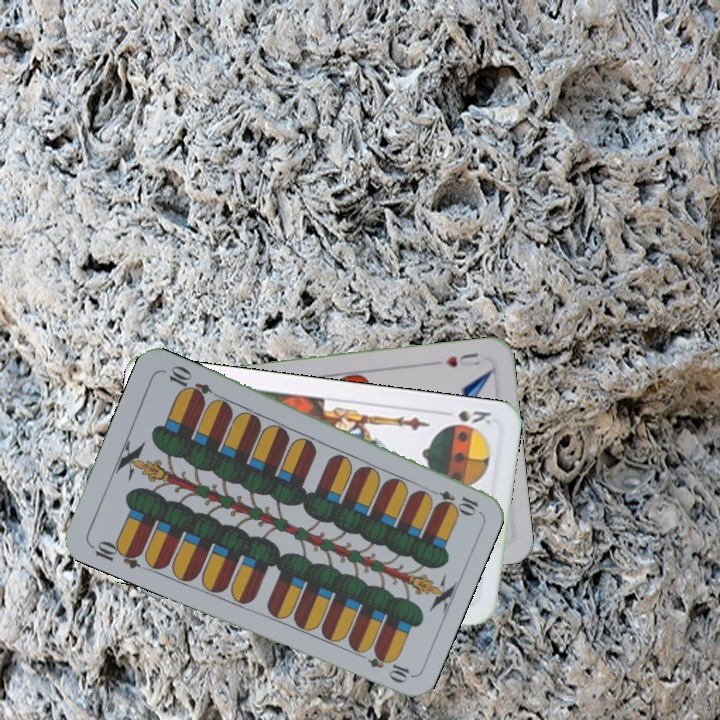E10: (86, 536, 145, 571), (423, 484, 481, 516)
HU: (441, 348, 483, 370)
SK: (437, 406, 494, 427)
